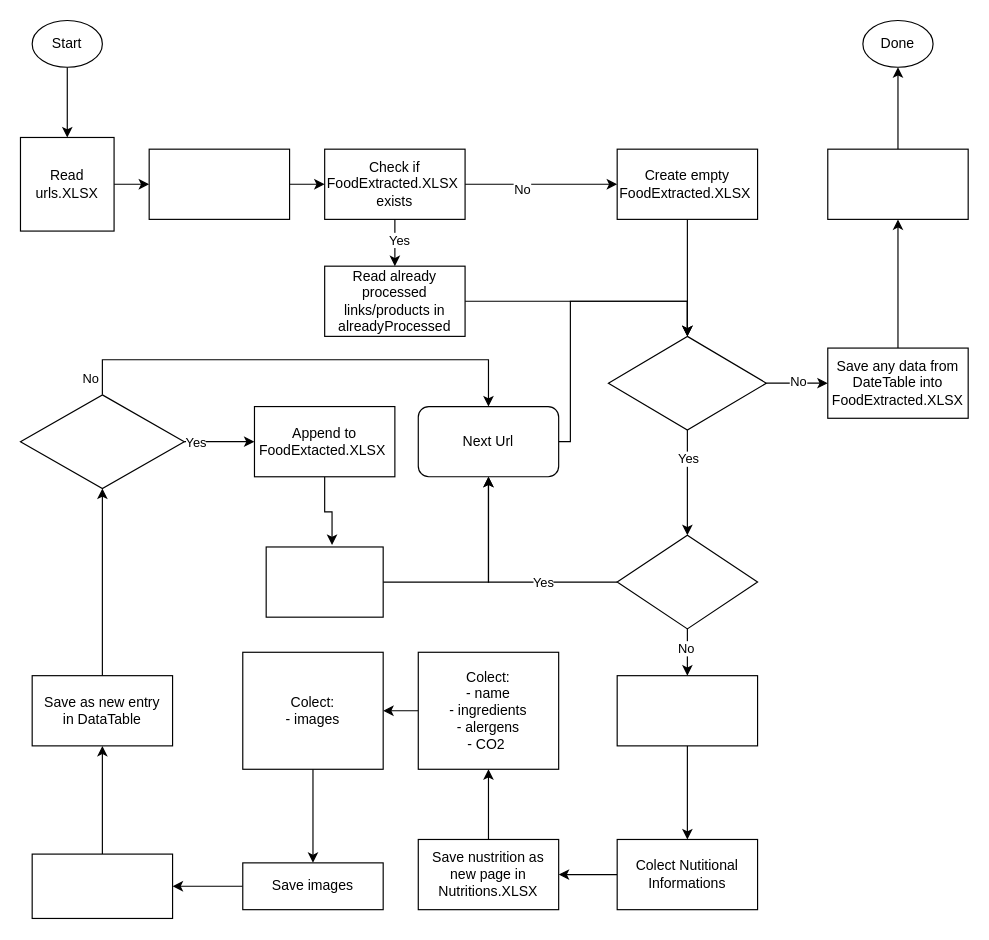
Some shapes in this 989 by 940 pixel diagram are drawn without their labels. The shapes that lost their labels are listed below. From the top down, each one's centre as x and y in pixels, then its label:
At pixel 219 183: "Create Empty DateTable".
At pixel 897 183: "Run Python Scripts".
At pixel 686 382: "Remains urls to extract data from ?".
At pixel 101 441: "Number entrys > 100".
At pixel 324 581: "Clean DataTable".
At pixel 687 581: "Url in alreadyProcessed".
At pixel 687 710: "Aces url".
At pixel 102 885: "Create entry with colected info & images path".
